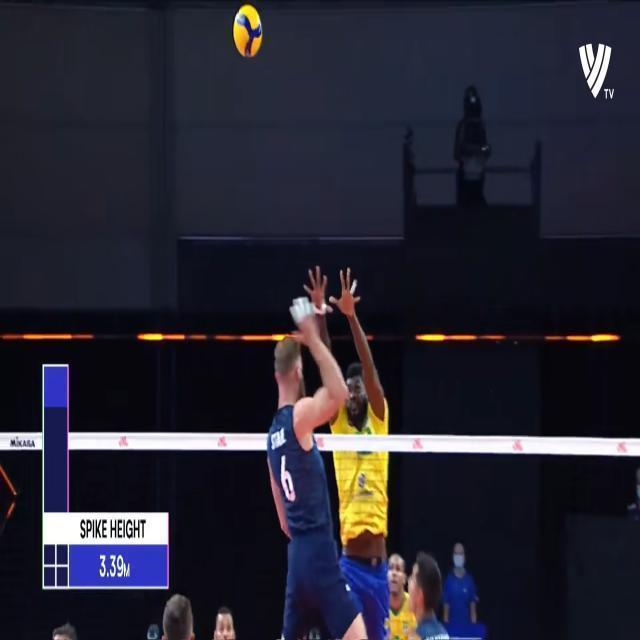volleyball: (233, 4, 262, 58)
